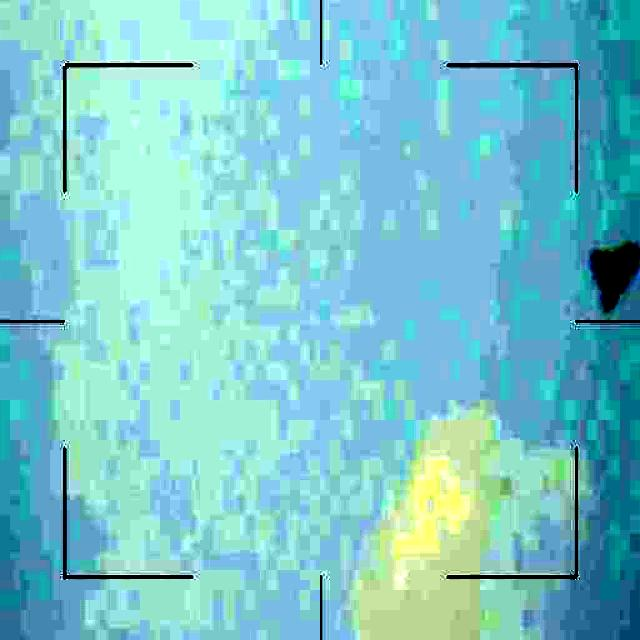bird: (585, 244, 640, 312)
